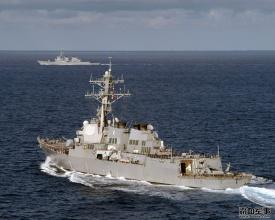warship: (36, 66, 257, 185), (35, 47, 108, 65)
